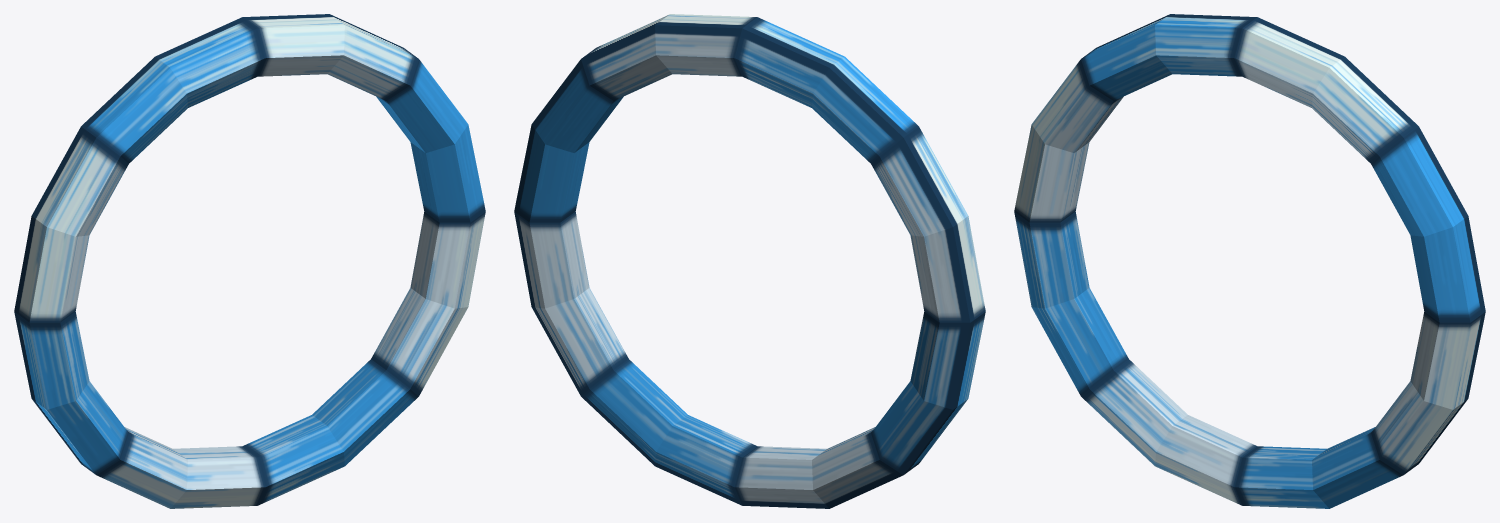
Rendered from AroPlata.glb.
3 renders of one model, left to right at view 1: azimuth 30°, elevation 25°; view 2: azimuth 150°, elevation 25°; view 3: azimuth 330°, elevation 25°, orthographic.
Parts seen in each view (by area): view 1: AroPlata; view 2: AroPlata; view 3: AroPlata.
Part boxes in pixels (x1,y1,x2,y2): AroPlata: (14,14,485,508); AroPlata: (514,14,985,508); AroPlata: (1014,14,1485,508).
Bounding box in the file's own units: 11.13 × 11.13 × 1.3.
1 material, 1 textured.
